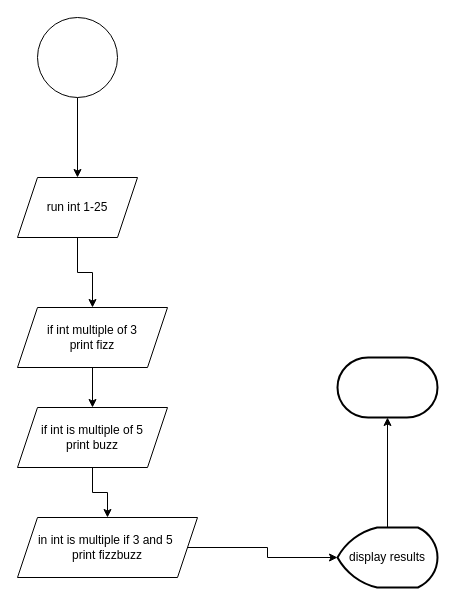
This 456x606 diagram has some shape labels left out. The centre of each missing label's shape, as x and y in pixels:
"end" goes at (x=387, y=387).
"start" goes at (x=77, y=57).
